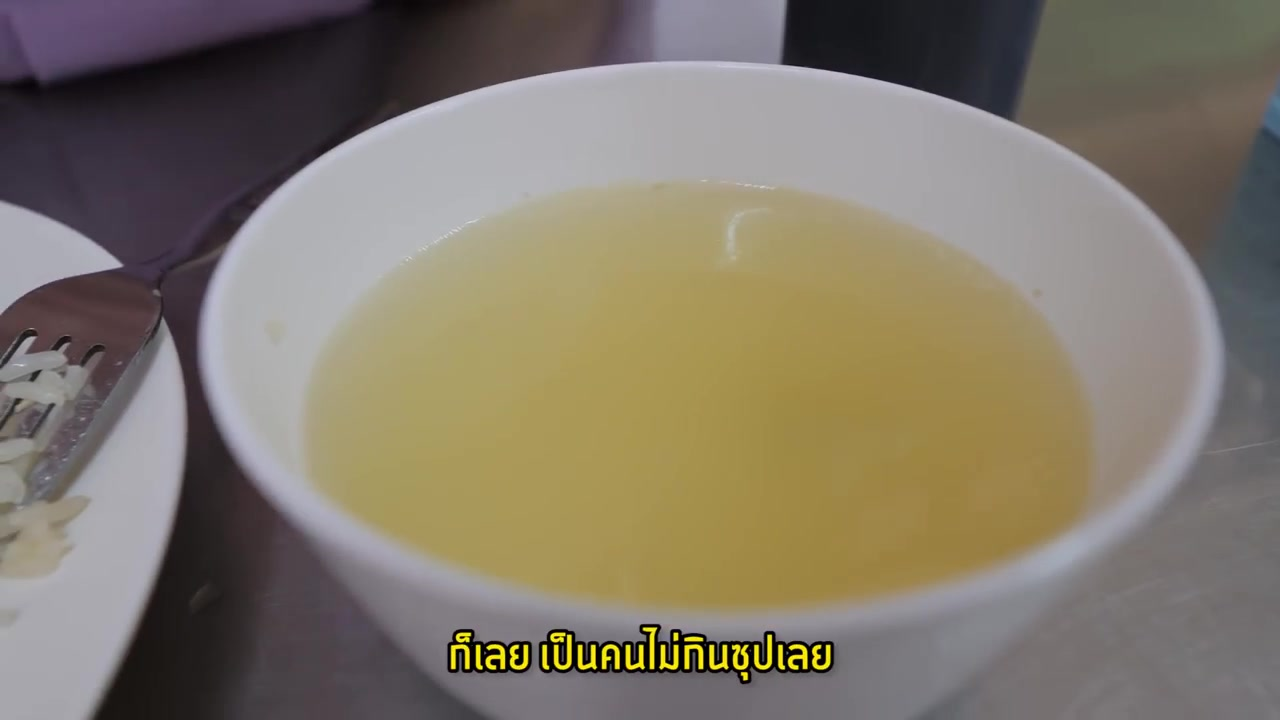text-label: (442, 622, 837, 686)
